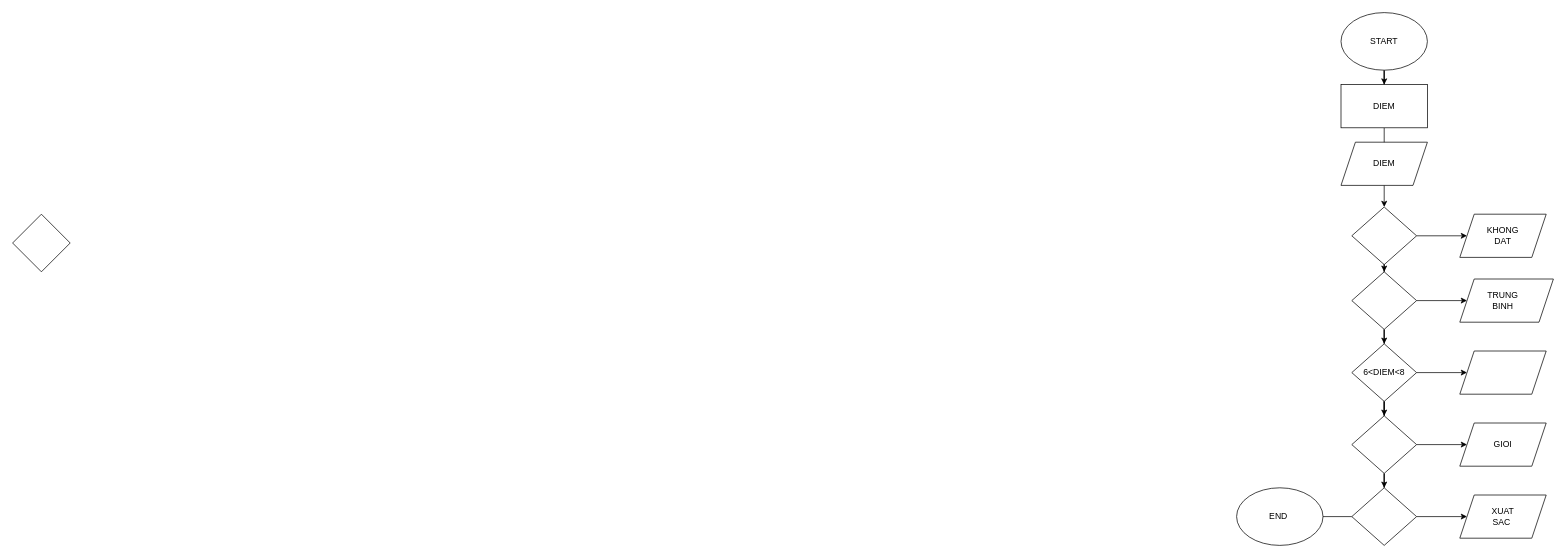
This 1566x558 diagram has some shape labels left out. Each missing label, with the centre of its shape:
"4<DIEM<6" belongs at point (1384, 300).
"8<DIEM<9" belongs at point (1384, 444).
"9<DIEM<10" belongs at point (1384, 516).
"DIEM<4" belongs at point (1384, 235).
"KHA" belongs at point (1502, 372).
